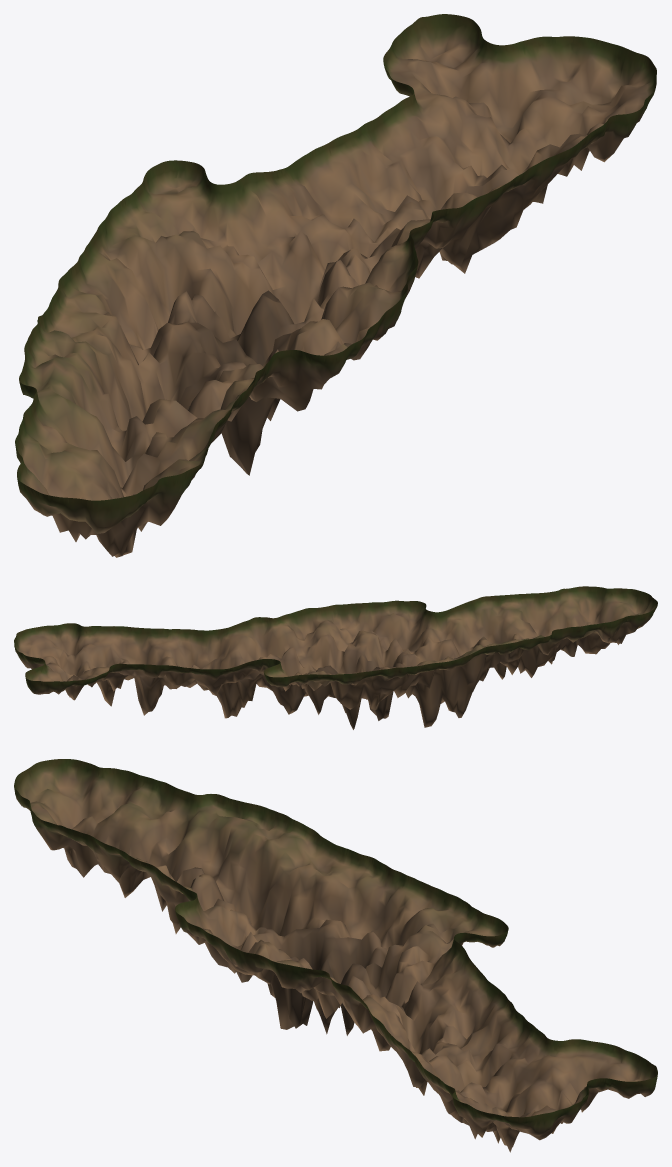
File: SM_H11_IslandRock.fbx
3 renders of one model, top to bottom at view 1: azimuth 30°, elevation 25°; view 2: azimuth 150°, elevation 25°; view 3: azimuth 270°, elevation 25°, orthographic. The views are drawn at different scales.
Parts seen in each view (by area): view 1: SM_H11_IslandRock; view 2: SM_H11_IslandRock; view 3: SM_H11_IslandRock.
Part boxes in pixels (x1,y1,x2,y2): SM_H11_IslandRock: (15, 14, 656, 557); SM_H11_IslandRock: (14, 586, 657, 729); SM_H11_IslandRock: (14, 759, 657, 1152).
Bounding box in the file's own units: 467 × 93.06 × 386.
